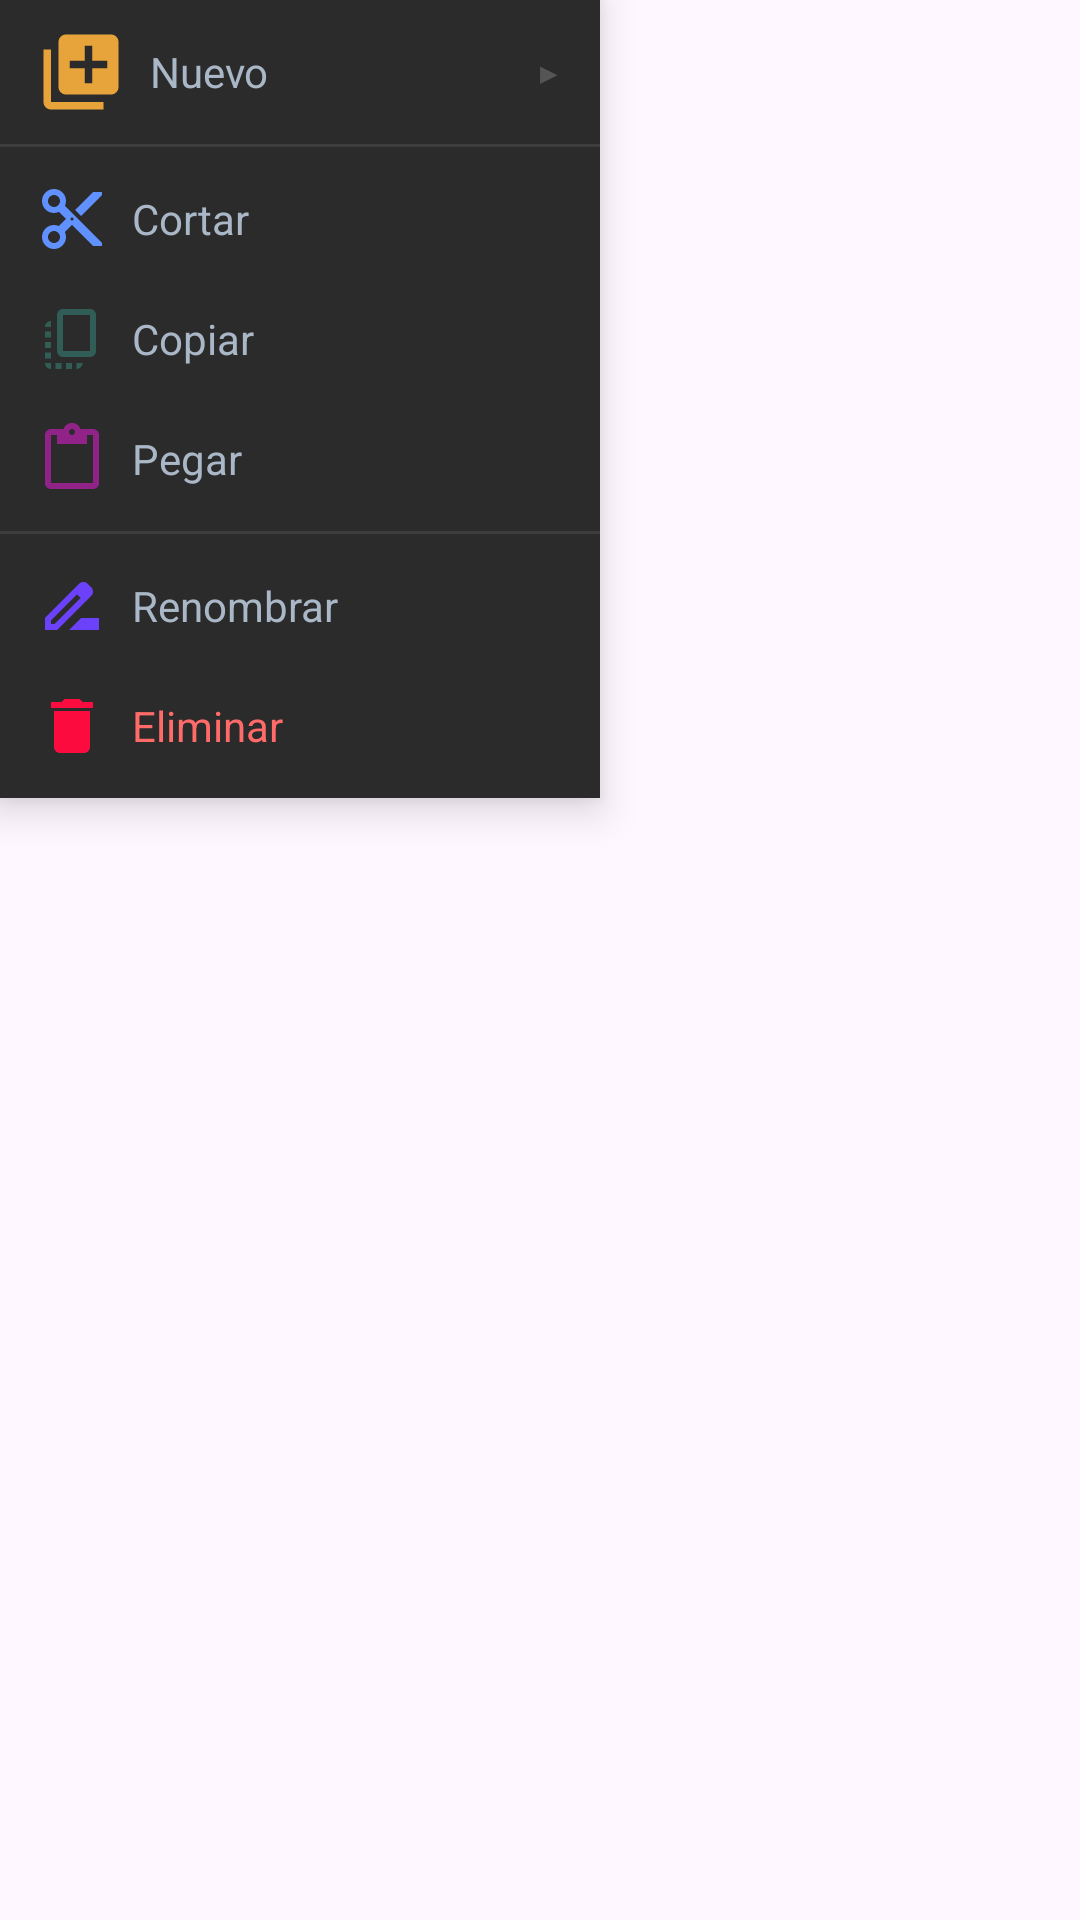

Point at icon controls on the screen. Image size 1080 x 1920, points as [x,y].
addd: [81,72]
